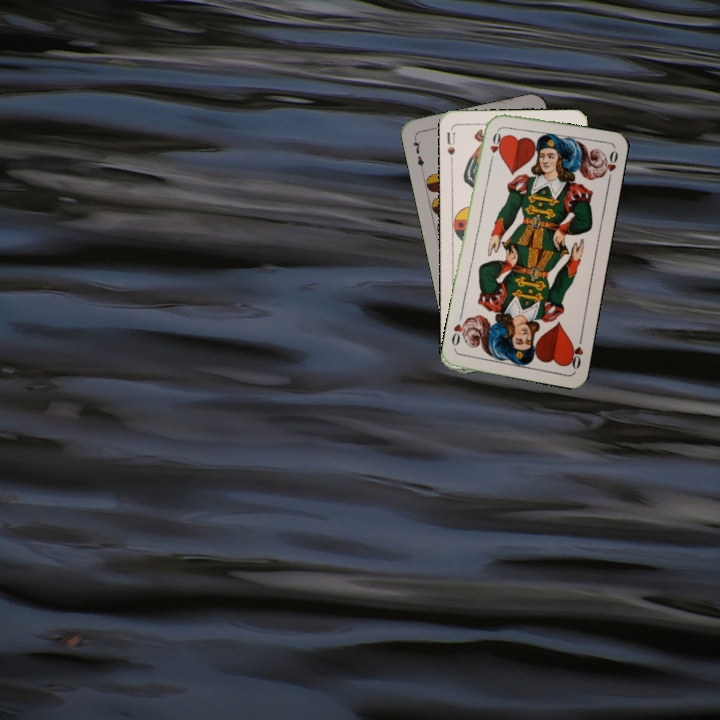E7: (409, 134, 427, 174)
HO: (565, 332, 586, 372), (486, 126, 503, 166)
SU: (443, 128, 457, 165)
